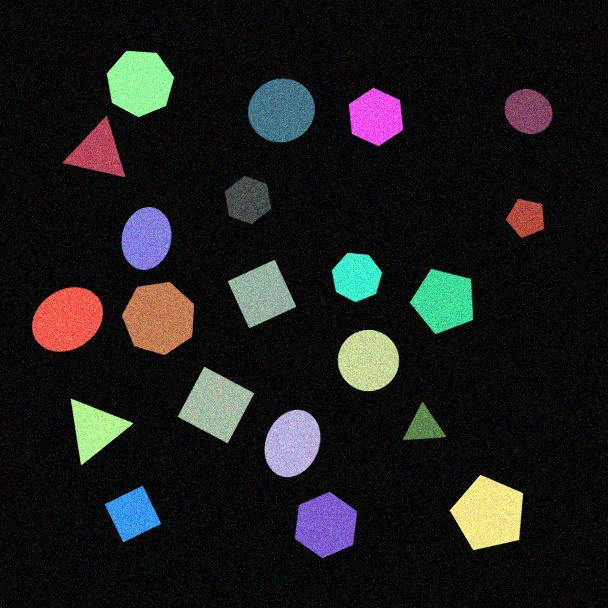Circulo: (247, 78, 316, 143), (337, 329, 400, 392), (504, 88, 553, 135)
Elipse: (31, 286, 104, 353), (264, 409, 321, 478), (121, 206, 172, 271)
Heptagono: (121, 281, 195, 356), (106, 50, 175, 118), (331, 252, 383, 303)
Hexagono: (294, 491, 358, 559), (348, 87, 404, 147), (224, 175, 272, 225)
Pentagono: (449, 474, 524, 551), (409, 268, 474, 335), (505, 198, 545, 239)
Quadrado: (177, 366, 255, 444), (227, 259, 297, 329), (104, 485, 162, 543)
Triangulo: (70, 398, 134, 466), (62, 116, 126, 178), (402, 402, 447, 441)
